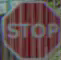Stop: (3, 5, 57, 48)
